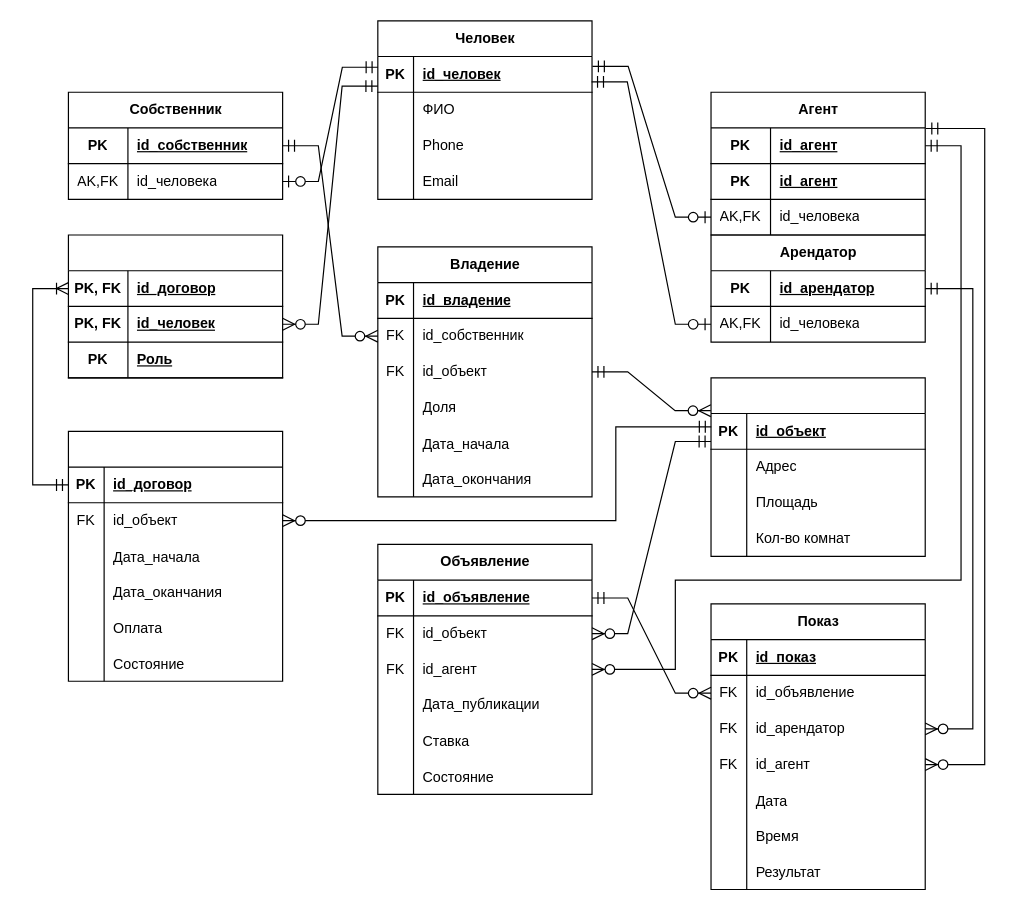
Image size: 1019x910. Some labels were removed from this diagram. Each missing label, with the box of its shape:
Договор_аренды: (67, 430, 283, 681)
Объект_недвижимости: (710, 377, 925, 556)
Участник_договра: (67, 234, 283, 378)
